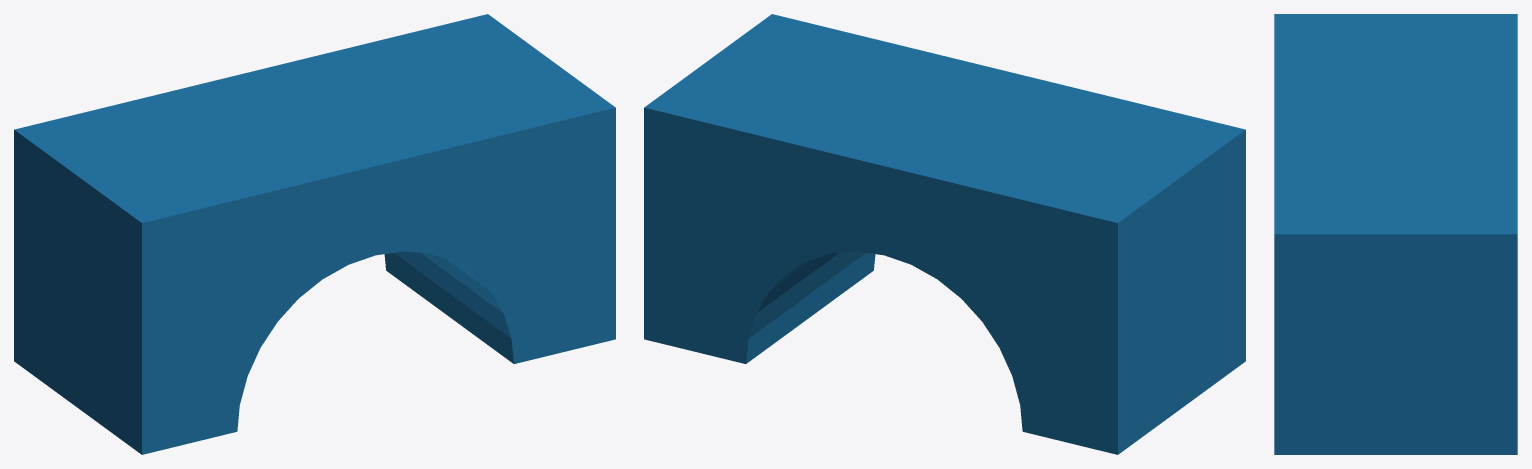
Rendered from 1per2 Balok Bolong  B.fbx.
The picture shows the model from 3 angles, left to right: view 1: azimuth 30°, elevation 25°; view 2: azimuth 150°, elevation 25°; view 3: azimuth 270°, elevation 25°; orthographic projection. The views are drawn at different scales.
Visible parts, largest first — view 1: Cube.005; view 2: Cube.005; view 3: Cube.005.
Boxes of the visible parts, box(x1,y1,x2,y2) form: Cube.005: box(14, 14, 615, 454); Cube.005: box(644, 14, 1245, 454); Cube.005: box(1274, 14, 1517, 454).
Bounding box in the file's own units: 428 × 200 × 200.
